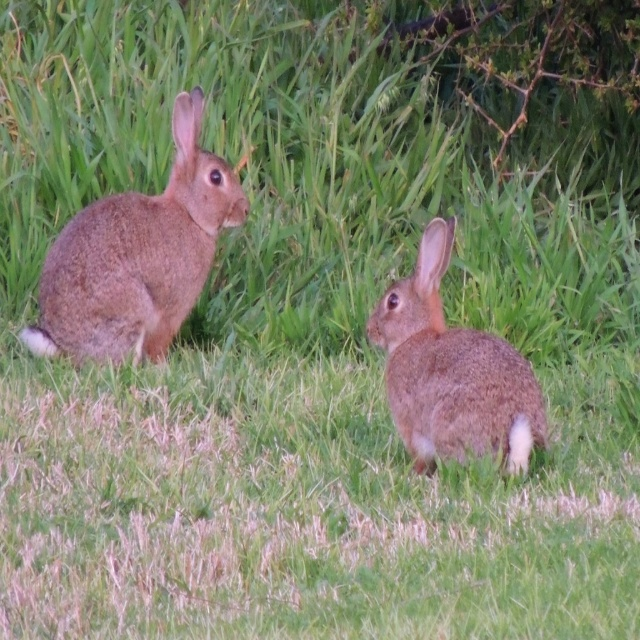Rabbit: (17, 85, 250, 370), (365, 215, 548, 475)
